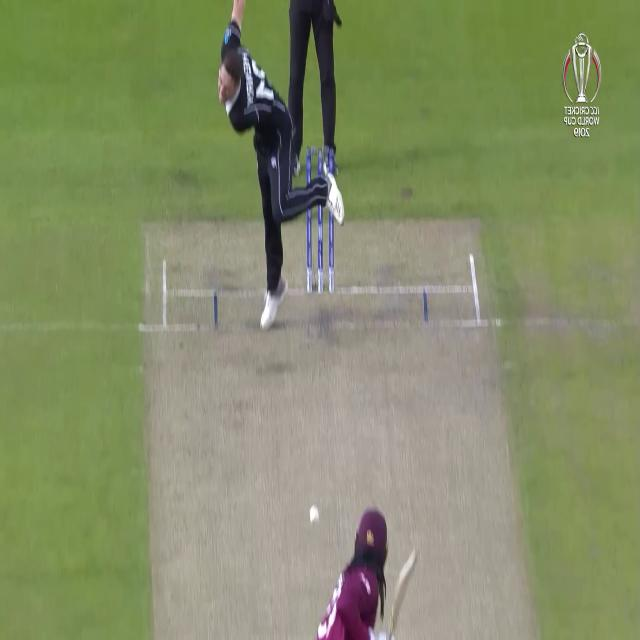ball: (305, 498, 323, 534)
